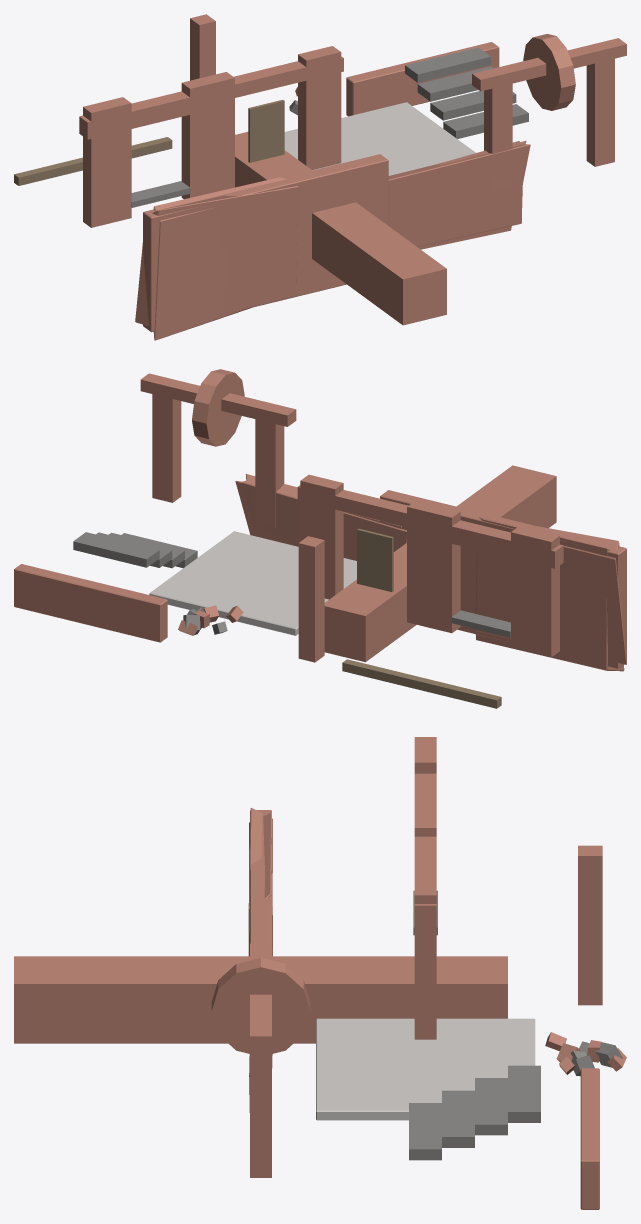
File: LL_BrickKit.fbx
The picture shows the model from 3 angles, top to bottom: view 1: azimuth 30°, elevation 25°; view 2: azimuth 150°, elevation 25°; view 3: azimuth 270°, elevation 25°; orthographic projection. The views are drawn at different scales.
Parts seen in each view (by area): view 1: LL_Brick_Wall_Corner_Leg, LL_Brick_Wall_Straight_v1, LL_Brick_Wall_Broken_v1, LL_Brick_Wall_Straight_v2, LL_Brick_Wall_Corner, LL_Brick_Floor_4x4, LL_Brick_Window_Side_L, LL_Brick_Door_Side_R, LL_Brick_Window_Side_R, LL_Brick_Wall_Low, LL_Brick_Door_Side_L, LL_Brick_Wall_Straight (+16 smaller); view 2: LL_Brick_Floor_4x4, LL_Brick_Wall_Corner_Leg, LL_Brick_Wall_Low, LL_Brick_Wall_Straight_v1, LL_Brick_Window_Side_L, LL_Brick_Window_Side_R, LL_Brick_Wall_Straight_v2, LL_Brick_Door_Side_L, LL_Brick_Door_Side_R, LL_Brick_Pillar, LL_Brick_Arch_Pillar_R, LL_Brick_Wall_Broken (+13 smaller); view 3: LL_Brick_Wall_Corner_Leg, LL_Brick_Floor_4x4, LL_Brick_Arch_Top, LL_Brick_Pillar, LL_Brick_Door_Side_R, LL_Brick_Wall_Low, LL_Brick_Arch_Pillar_R, LL_Brick_Stair_0, LL_Brick_Stair_1, LL_Brick_Stair_2, LL_Brick_Stair_3, LL_Brick_Arch_Lintel (+7 smaller).
Boxes of the visible parts, x1,y1,x2,y2 form: LL_Brick_Wall_Corner_Leg: (235,131,446,325); LL_Brick_Wall_Straight_v1: (135,186,298,325); LL_Brick_Wall_Broken_v1: (388,144,530,246); LL_Brick_Wall_Straight_v2: (153,177,286,340); LL_Brick_Wall_Corner: (274,154,388,300); LL_Brick_Floor_4x4: (284,102,475,175); LL_Brick_Window_Side_L: (83,97,131,227); LL_Brick_Door_Side_R: (298,46,341,169); LL_Brick_Window_Side_R: (181,73,229,199); LL_Brick_Wall_Low: (346,42,499,116); LL_Brick_Door_Side_L: (192,72,234,191); LL_Brick_Wall_Straight: (143,182,295,332); LL_Brick_Floor_4x4: (149,531,356,635); LL_Brick_Wall_Corner_Leg: (324,465,556,662); LL_Brick_Wall_Low: (14,564,167,642); LL_Brick_Wall_Straight_v1: (475,526,626,664); LL_Brick_Window_Side_L: (511,526,559,657); LL_Brick_Window_Side_R: (411,504,460,633); LL_Brick_Wall_Straight_v2: (475,517,624,671); LL_Brick_Door_Side_L: (407,500,447,630); LL_Brick_Door_Side_R: (300,474,343,599); LL_Brick_Pillar: (298,536,324,662); LL_Brick_Arch_Pillar_R: (152,394,181,502); LL_Brick_Wall_Broken: (241,480,406,559); LL_Brick_Wall_Corner_Leg: (14,956,507,1043); LL_Brick_Floor_4x4: (316,1018,535,1120); LL_Brick_Arch_Top: (211,958,310,1053); LL_Brick_Pillar: (578,845,602,1005); LL_Brick_Door_Side_R: (414,873,436,1039); LL_Brick_Wall_Low: (580,1068,599,1209); LL_Brick_Arch_Pillar_R: (250,1051,271,1177); LL_Brick_Stair_0: (409,1103,441,1160); LL_Brick_Stair_1: (442,1090,474,1147); LL_Brick_Stair_2: (475,1078,507,1135); LL_Brick_Stair_3: (508,1065,540,1122); LL_Brick_Arch_Lintel: (250,943,271,1051).
Size of the model in its own units: 13.21 by 5.28 by 11.17.
